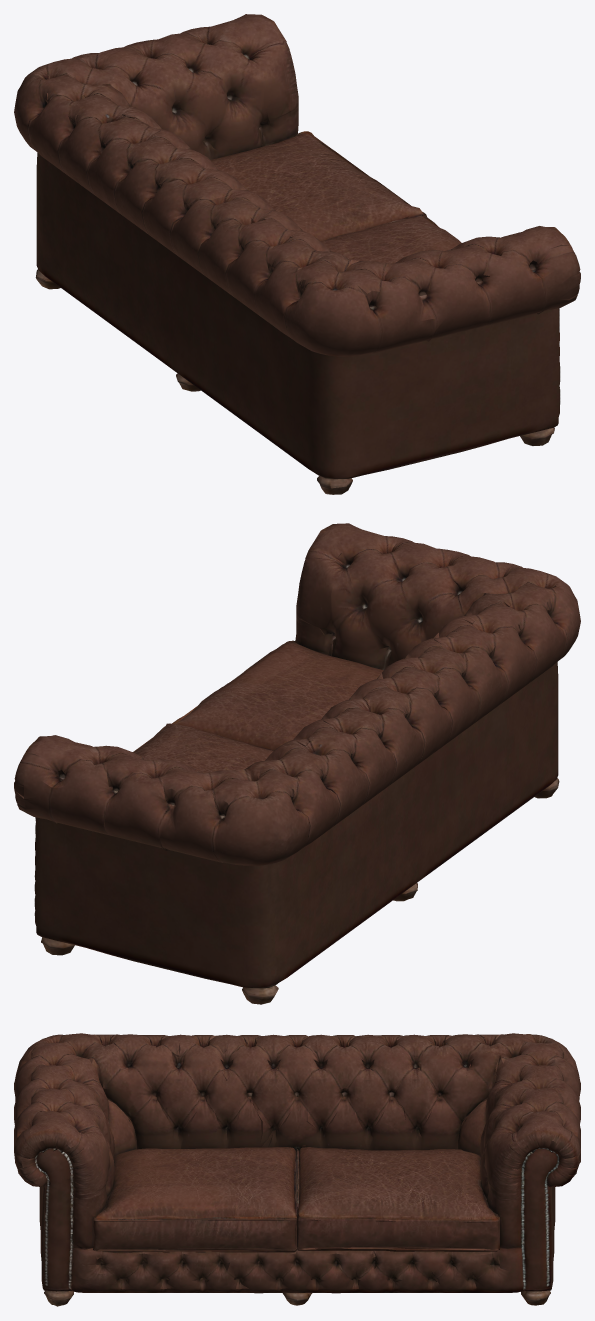
The model's file is vintage_brown_leather_chesterfield_sofa.glb.
3 views of the same model, one above another, from view 1: azimuth 30°, elevation 25°; view 2: azimuth 150°, elevation 25°; view 3: azimuth 270°, elevation 25° (orthographic). The views are drawn at different scales.
Parts seen in each view (by area): view 1: tripo_node_0b8d1621-8f7b-40d0-b314-35e14dc81a1e; view 2: tripo_node_0b8d1621-8f7b-40d0-b314-35e14dc81a1e; view 3: tripo_node_0b8d1621-8f7b-40d0-b314-35e14dc81a1e.
Boxes of the visible parts, x1,y1,x2,y2 form: tripo_node_0b8d1621-8f7b-40d0-b314-35e14dc81a1e: (14, 14, 580, 494); tripo_node_0b8d1621-8f7b-40d0-b314-35e14dc81a1e: (14, 523, 580, 1004); tripo_node_0b8d1621-8f7b-40d0-b314-35e14dc81a1e: (14, 1033, 580, 1306).
Bounding box in the file's own units: 0.4649 × 0.3463 × 0.9777.
Materials: 1 (1 with a texture image).
